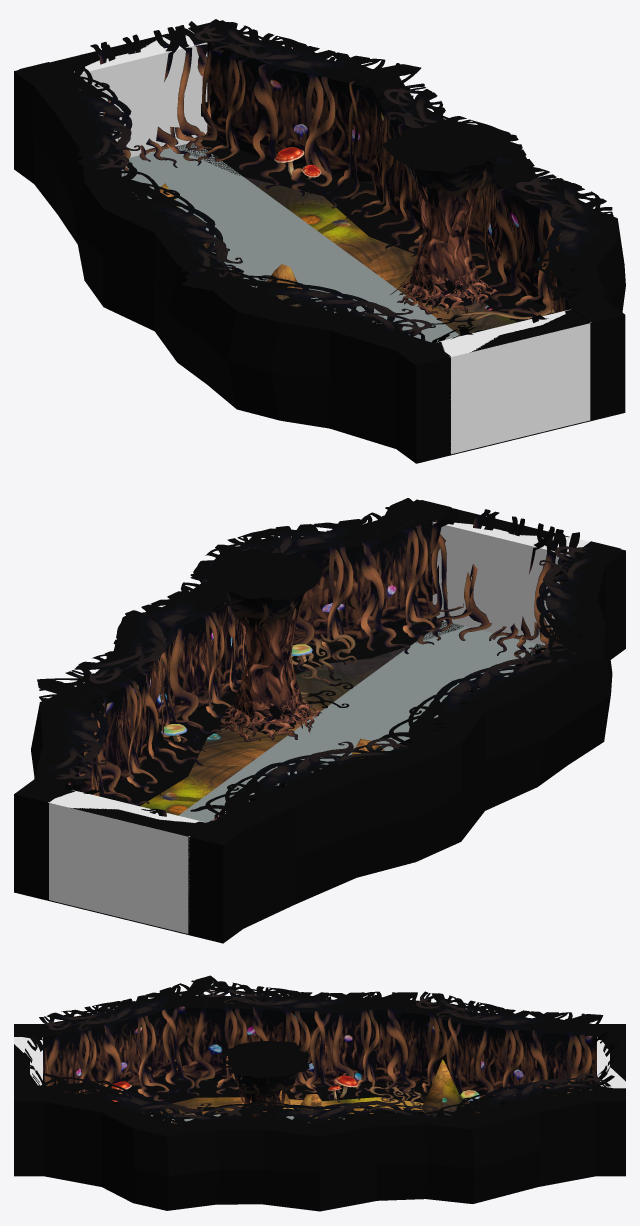
The model's file is Dungeon_021_Road_002_Item.fbx.
3 views of the same model, one above another, from view 1: azimuth 30°, elevation 25°; view 2: azimuth 150°, elevation 25°; view 3: azimuth 270°, elevation 25° (orthographic). The views are drawn at different scales.
Visible parts, largest first — view 1: Dan1, Dungeon_021_Tsuta_002, Quad_Nav_SP, Dungeon_021_Tsuta_001, DoorWay_NavMask (1), DoorWay_NavMask (×2), Dungeon_021_Object_011, Dan1_shadow, Dungeon_021_Object_010, Dan2, un_021_Door_002_Object1, un_021_Door_002 (×2) (+1 smaller); view 2: Dan1, Dungeon_021_Tsuta_002, Dungeon_021_Tsuta_001, DoorWay_NavMask (1), Quad_Nav_SP, DoorWay_NavMask (×2), Dungeon_021_Object_011, Dan2, Dungeon_021_Object_010, Dan1_shadow, un_021_Door_002_Object1, un_021_Door_002 (×2) (+1 smaller); view 3: Dan1, Dungeon_021_Tsuta_002, Dungeon_021_Tsuta_001, Dungeon_021_Object_010, Dan1_shadow, un_021_Door_002 (×2), Dan2, Dungeon_011_Object_011, un_021_Door_002_Object1 (×2), DoorWay_NavMask (×2), Dungeon_021_Tsuta_003, Dungeon_021_Object_011.
Part boxes in pixels (bbox=[...]): Dan1: bbox=[14, 20, 625, 463]; Dungeon_021_Tsuta_002: bbox=[29, 19, 614, 339]; Quad_Nav_SP: bbox=[121, 143, 460, 342]; Dungeon_021_Tsuta_001: bbox=[54, 38, 590, 340]; DoorWay_NavMask (1): bbox=[443, 322, 591, 454]; DoorWay_NavMask (×2): bbox=[74, 29, 570, 356]; Dungeon_021_Object_011: bbox=[390, 165, 499, 314]; Dan1_shadow: bbox=[176, 140, 555, 322]; Dungeon_021_Object_010: bbox=[382, 120, 506, 197]; Dan2: bbox=[244, 177, 516, 335]; un_021_Door_002_Object1: bbox=[69, 21, 223, 170]; un_021_Door_002 (×2): bbox=[19, 21, 619, 455]; Dan1: bbox=[14, 499, 625, 943]; Dungeon_021_Tsuta_002: bbox=[37, 498, 605, 821]; Dungeon_021_Tsuta_001: bbox=[56, 506, 589, 818]; DoorWay_NavMask (1): bbox=[48, 797, 189, 933]; Quad_Nav_SP: bbox=[178, 621, 543, 822]; DoorWay_NavMask (×2): bbox=[50, 522, 589, 822]; Dungeon_021_Object_011: bbox=[220, 597, 321, 742]; Dan2: bbox=[140, 645, 410, 815]; Dungeon_021_Object_010: bbox=[206, 548, 322, 629]; Dan1_shadow: bbox=[100, 619, 544, 806]; un_021_Door_002_Object1: bbox=[411, 508, 579, 658]; un_021_Door_002 (×2): bbox=[19, 500, 620, 934]; Dan1: bbox=[14, 995, 625, 1211]; Dungeon_021_Tsuta_002: bbox=[33, 975, 610, 1127]; Dungeon_021_Tsuta_001: bbox=[44, 994, 591, 1123]; Dungeon_021_Object_010: bbox=[220, 1041, 312, 1099]; Dan1_shadow: bbox=[118, 1080, 509, 1112]; un_021_Door_002 (×2): bbox=[14, 1025, 625, 1099]; Dan2: bbox=[142, 1097, 479, 1114]; Dungeon_011_Object_011: bbox=[422, 1059, 465, 1115]; un_021_Door_002_Object1 (×2): bbox=[19, 1028, 619, 1085]; DoorWay_NavMask (×2): bbox=[14, 1037, 619, 1088]; Dungeon_021_Tsuta_003: bbox=[369, 1081, 430, 1110]; Dungeon_021_Object_011: bbox=[234, 1074, 285, 1116].
Size of what is drawn, in the model's own units: 9.14 by 3.03 by 15.
